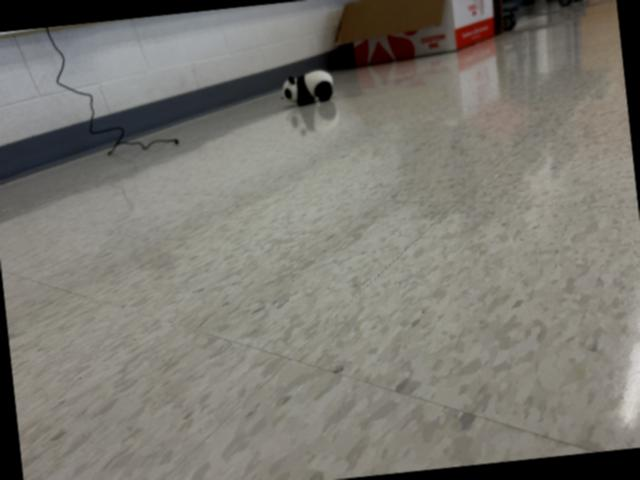panda_plushie: (278, 68, 336, 106)
